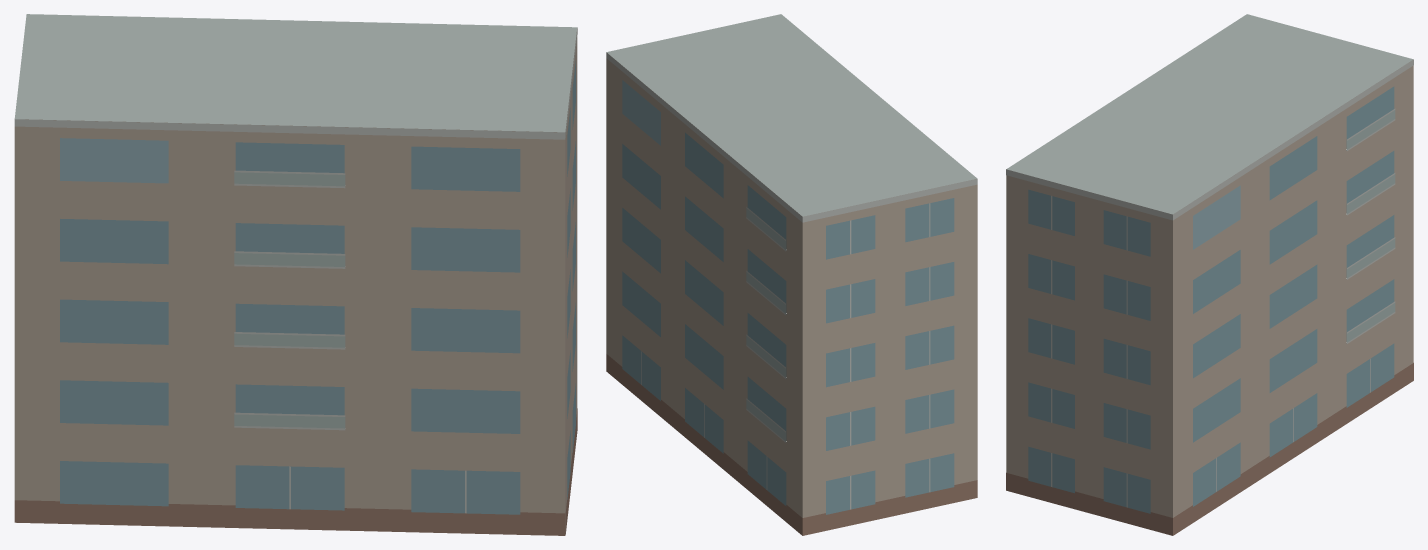
The model's file is survey-upis-32851094.glb.
3 renders of one model, left to right at view 1: azimuth 30°, elevation 25°; view 2: azimuth 150°, elevation 25°; view 3: azimuth 270°, elevation 25°, orthographic. The views are drawn at different scales.
Parts seen in each view (by area): view 1: survey-upis-32851094.tmp; view 2: survey-upis-32851094.tmp; view 3: survey-upis-32851094.tmp.
Part boxes in pixels (x1,y1,x2,y2): survey-upis-32851094.tmp: (14,14,577,535); survey-upis-32851094.tmp: (606,14,977,535); survey-upis-32851094.tmp: (1006,14,1413,535).
Bounding box in the file's own units: 17.68 × 13.2 × 15.18.
